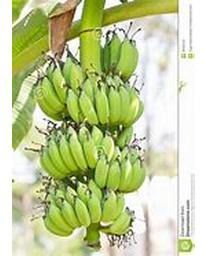banana: (33, 26, 148, 247)
